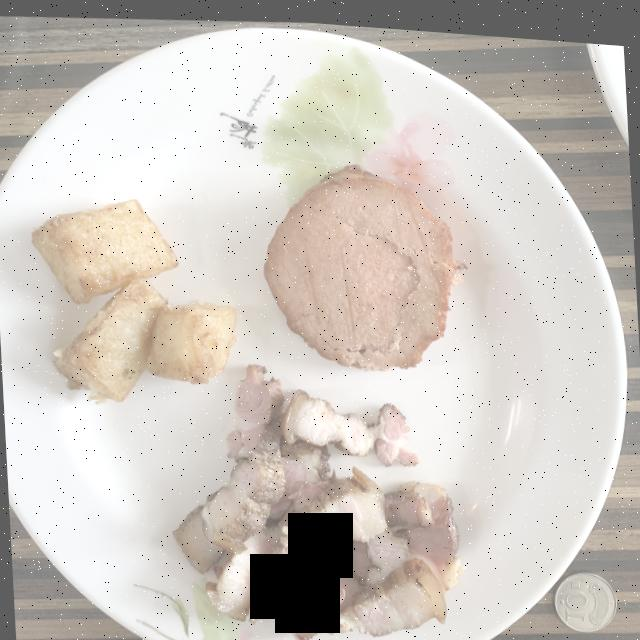Spam: (263, 160, 466, 364)
coin: (555, 564, 617, 622)
fried potato: (31, 198, 236, 402)
grilled pork: (174, 361, 465, 639)
